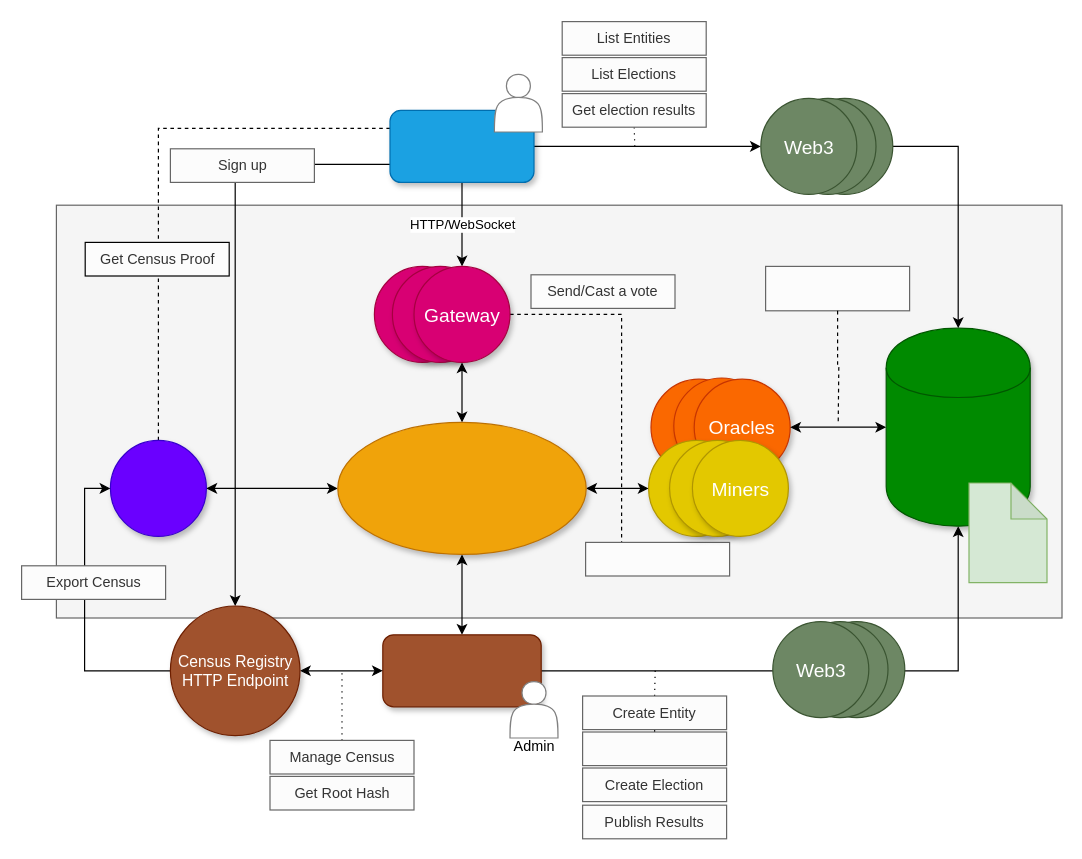
Some shapes in this 1082 by 859 pixel diagram are drawn without their labels. The shapes that lost their labels are listed below. From the top down, each one's centre as x and y in pixels, then its label:
the point at 462,147: User APP
the point at 837,288: Add new process to Voting Chain
the point at 958,428: Ethereum
the point at 159,489: Census Service
the point at 462,489: P2P networks + Messaging + FileSharing + Voting Chain
the point at 1007,532: Smart Contract
the point at 657,558: Validate Votes
the point at 462,672: Entity Manager WebFrontend
the point at 654,748: Set Entity Metadata
